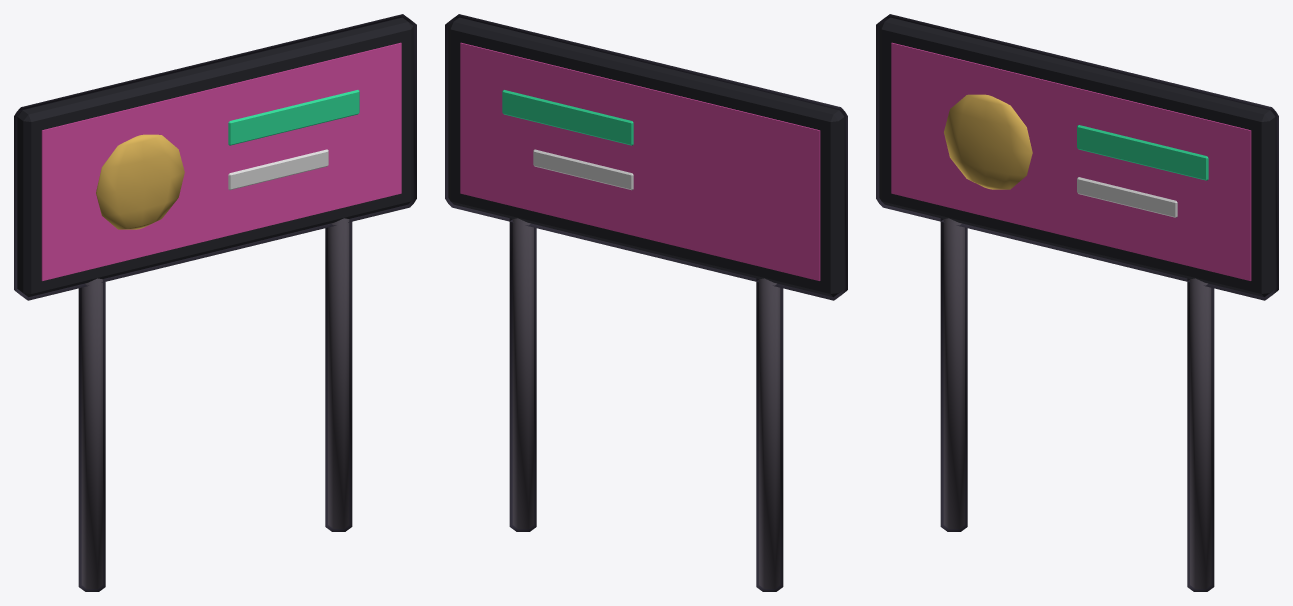
Rendered from billboard.glb.
3 renders of one model, left to right at view 1: azimuth 30°, elevation 25°; view 2: azimuth 150°, elevation 25°; view 3: azimuth 330°, elevation 25°, orthographic.
Visible parts, largest first — view 1: billboard; view 2: billboard; view 3: billboard.
Part boxes in pixels (left/top/right/bottom): billboard: left=14, top=14, right=416, bottom=591; billboard: left=445, top=14, right=847, bottom=591; billboard: left=876, top=14, right=1278, bottom=591.
Bounding box in the file's own units: 7.71 × 9.19 × 0.6325.
